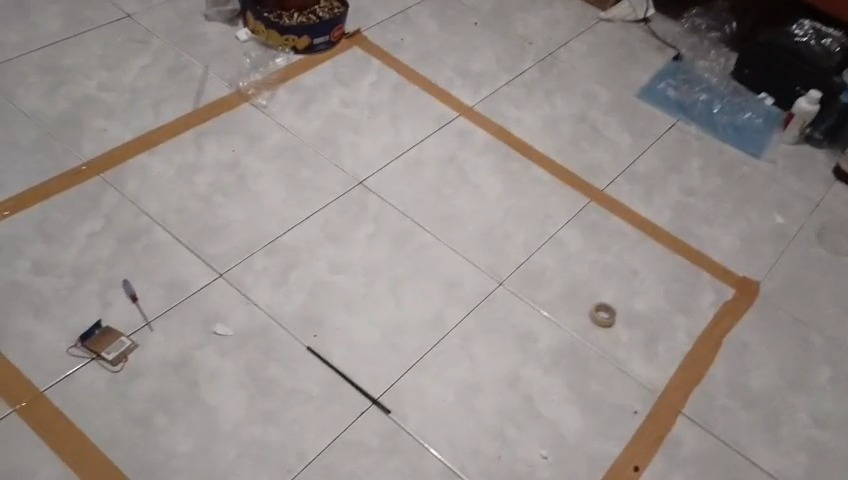floor marking: (278, 35, 758, 479), (0, 92, 247, 219), (0, 353, 125, 479)
